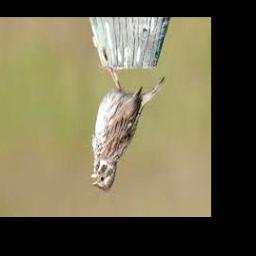Sparrow: (89, 68, 166, 192)
